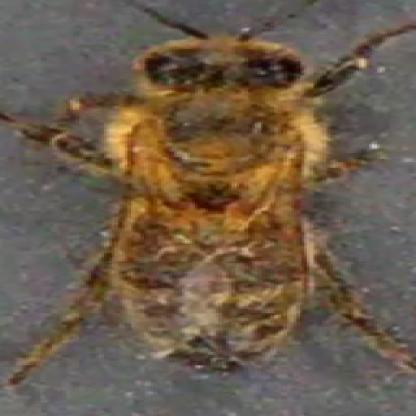bee: (94, 40, 315, 371)
